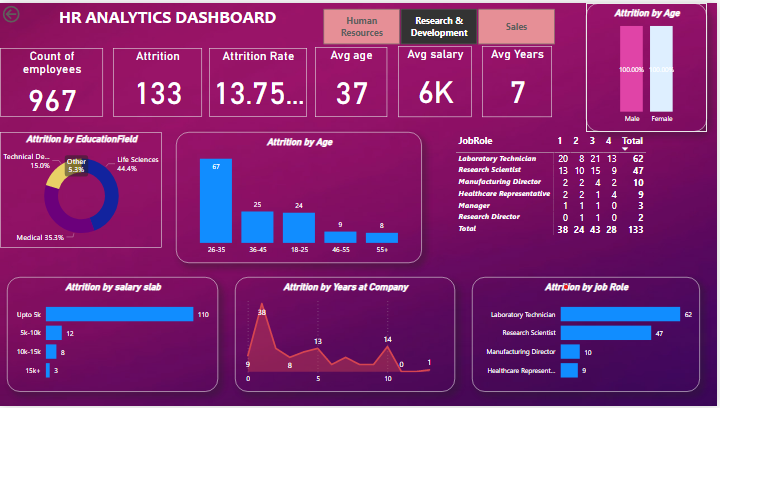

The page's visual inventory and layout, read from the dashboard file:
{"tool":"powerbi","page":{"name":"Page 1","canvas":[1280,720],"ordinal":0},"visuals":[{"type":"card","title":"Count of employees","fields":{"Values":["CountNonNull(HR_Analytics.EmployeeNumber)"]},"box":[0,80.4,183.9,123.2],"z":0},{"type":"card","title":"Attrition","fields":{"Values":["Sum(HR_Analytics.AttritionColumn)"]},"box":[201.8,80.4,158.9,123.2],"z":1000},{"type":"card","title":"Attrition Rate","fields":{"Values":["HR_Analytics.AttritionRate"]},"box":[373.2,80.4,175,123.2],"z":2000},{"type":"card","title":"Avg age","fields":{"Values":["Avg(HR_Analytics.Age)"]},"box":[562.5,78.6,128.6,125],"z":3000},{"type":"actionButton","box":[0,0,100,40],"z":4000},{"type":"card","title":"Avg  salary","fields":{"Values":["Avg(HR_Analytics.MonthlyIncome)"]},"box":[710.7,76.8,132.1,126.8],"z":5000},{"type":"card","title":"Avg Years","fields":{"Values":["Avg(HR_Analytics.YearsAtCompany)"]},"box":[860.7,76.8,125,126.8],"z":6000},{"type":"donutChart","title":" Attrition by EducationField","fields":{"Y":["Sum(HR_Analytics.AttritionColumn)"],"Category":["HR_Analytics.EducationField"]},"box":[0,230.4,289.3,207.1],"z":7000},{"type":"columnChart","title":" Attrition by Age","fields":{"Category":["HR_Analytics.AgeGroup"],"Y":["Sum(HR_Analytics.AttritionColumn)"]},"box":[314.3,230.4,439.3,233.9],"z":8000},{"type":"pivotTable","fields":{"Rows":["HR_Analytics.JobRole"],"Columns":["HR_Analytics.JobSatisfaction"],"Values":["Sum(HR_Analytics.AttritionColumn)"]},"box":[778.6,258.9,471.4,205.4],"z":9000},{"type":"clusteredBarChart","title":" Attrition by salary slab","fields":{"Category":["HR_Analytics.SalarySlab"],"Y":["Sum(HR_Analytics.AttritionColumn)"]},"box":[12.5,489.3,376.8,205.4],"z":10000},{"type":"clusteredBarChart","title":" Attrition by job Role","fields":{"Y":["Sum(HR_Analytics.AttritionColumn)"],"Category":["HR_Analytics.JobRole"]},"box":[842.9,489.3,407.1,205.4],"z":11000},{"type":"areaChart","title":" Attrition by Years at Company","fields":{"Y":["Sum(HR_Analytics.AttritionColumn)"],"Category":["HR_Analytics.YearsAtCompany"]},"box":[419.6,489.3,392.9,205.4],"z":12000},{"type":"hundredPercentStackedColumnChart","title":" Attrition by Gender","fields":{"Y":["Sum(HR_Analytics.AttritionColumn)"],"Category":["HR_Analytics.Gender"]},"box":[1046.4,0,216.1,230.4],"z":13000},{"type":"slicer","fields":{"Values":["HR_Analytics.Department"]},"box":[551.8,3.6,462.5,76.8],"z":14000},{"type":"textbox","box":[50,0,498.2,80.4],"z":15000}]}

Visuals, with their boxes on the page's 1280x720 design canvas (x1, y1, x2, y2). These are canvas units, not pixel positions in the 768x480 screenshot, which may show the page scaled, cropped or inside an application window:
"Count of employees" card: (left=0, top=80, right=184, bottom=204)
"Attrition" card: (left=202, top=80, right=361, bottom=204)
"Attrition Rate" card: (left=373, top=80, right=548, bottom=204)
"Avg age" card: (left=562, top=79, right=691, bottom=204)
actionButton: (left=0, top=0, right=100, bottom=40)
"Avg  salary" card: (left=711, top=77, right=843, bottom=204)
"Avg Years" card: (left=861, top=77, right=986, bottom=204)
" Attrition by EducationField" donutChart: (left=0, top=230, right=289, bottom=438)
" Attrition by Age" columnChart: (left=314, top=230, right=754, bottom=464)
pivotTable - HR_Analytics.JobRole x HR_Analytics.JobSatisfaction: (left=779, top=259, right=1250, bottom=464)
" Attrition by salary slab" clusteredBarChart: (left=12, top=489, right=389, bottom=695)
" Attrition by job Role" clusteredBarChart: (left=843, top=489, right=1250, bottom=695)
" Attrition by Years at Company" areaChart: (left=420, top=489, right=812, bottom=695)
" Attrition by Gender" hundredPercentStackedColumnChart: (left=1046, top=0, right=1262, bottom=230)
slicer - HR_Analytics.Department: (left=552, top=4, right=1014, bottom=80)
textbox: (left=50, top=0, right=548, bottom=80)
